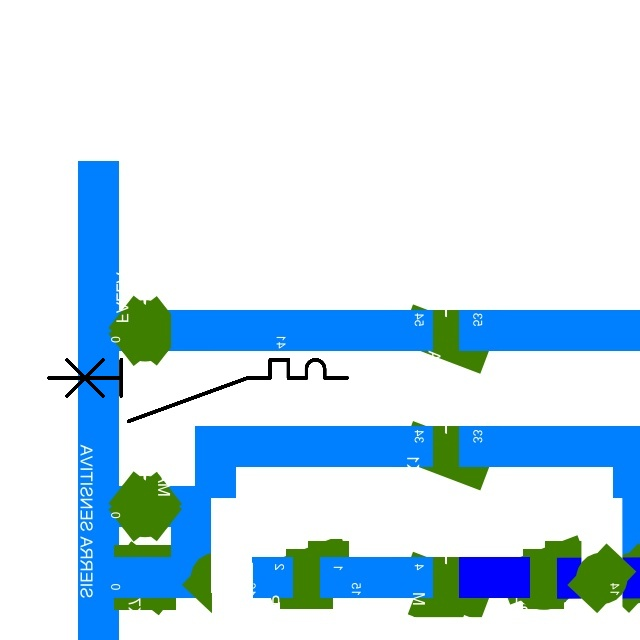interruptor_termomagnetico: (41, 352, 355, 429)
